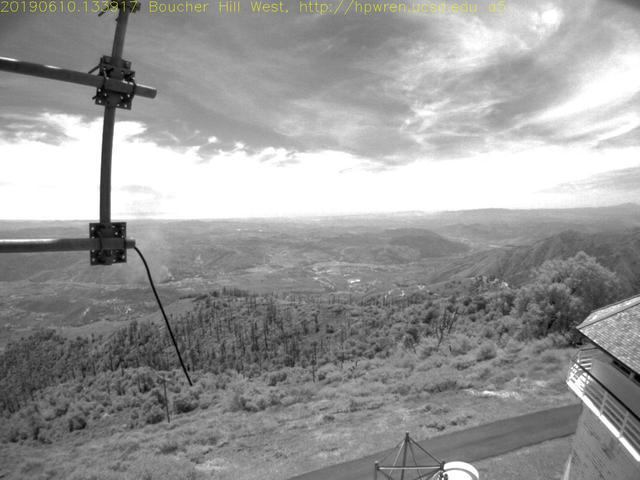smoke: (131, 211, 185, 291)
